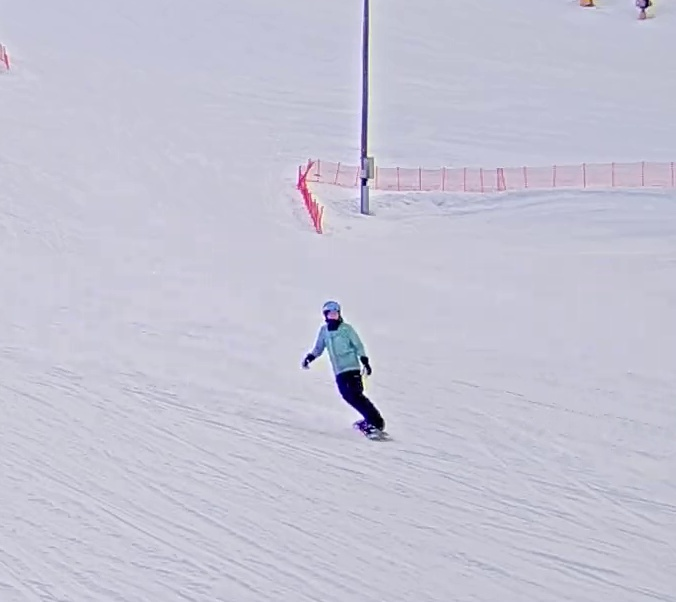snowboarder: (299, 299, 393, 442)
